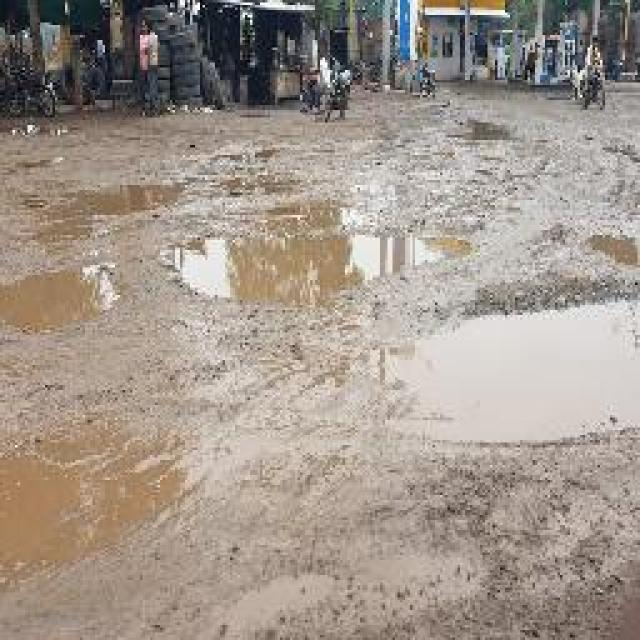waterlogging: (162, 222, 491, 291)
